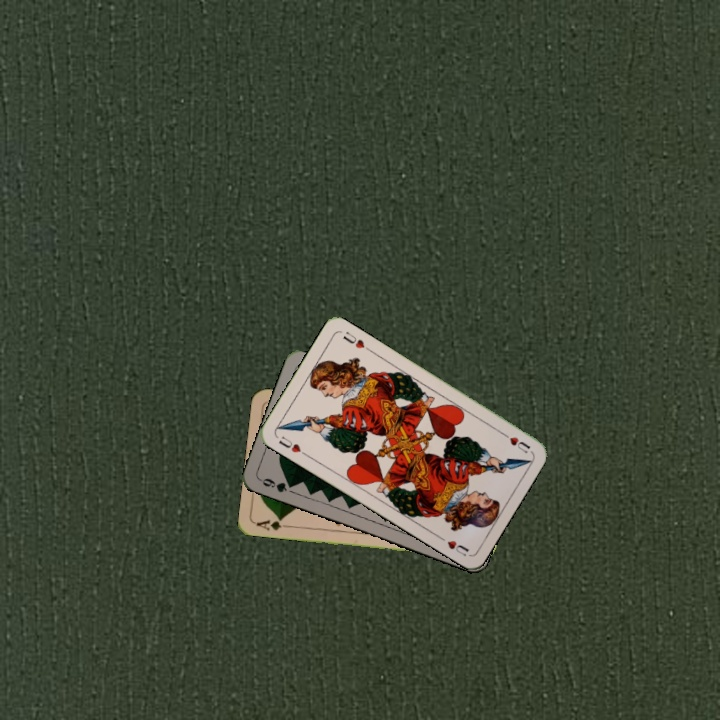G9: (256, 474, 298, 495)
GA: (252, 514, 293, 533)
HU: (497, 428, 533, 456), (274, 432, 310, 458)
